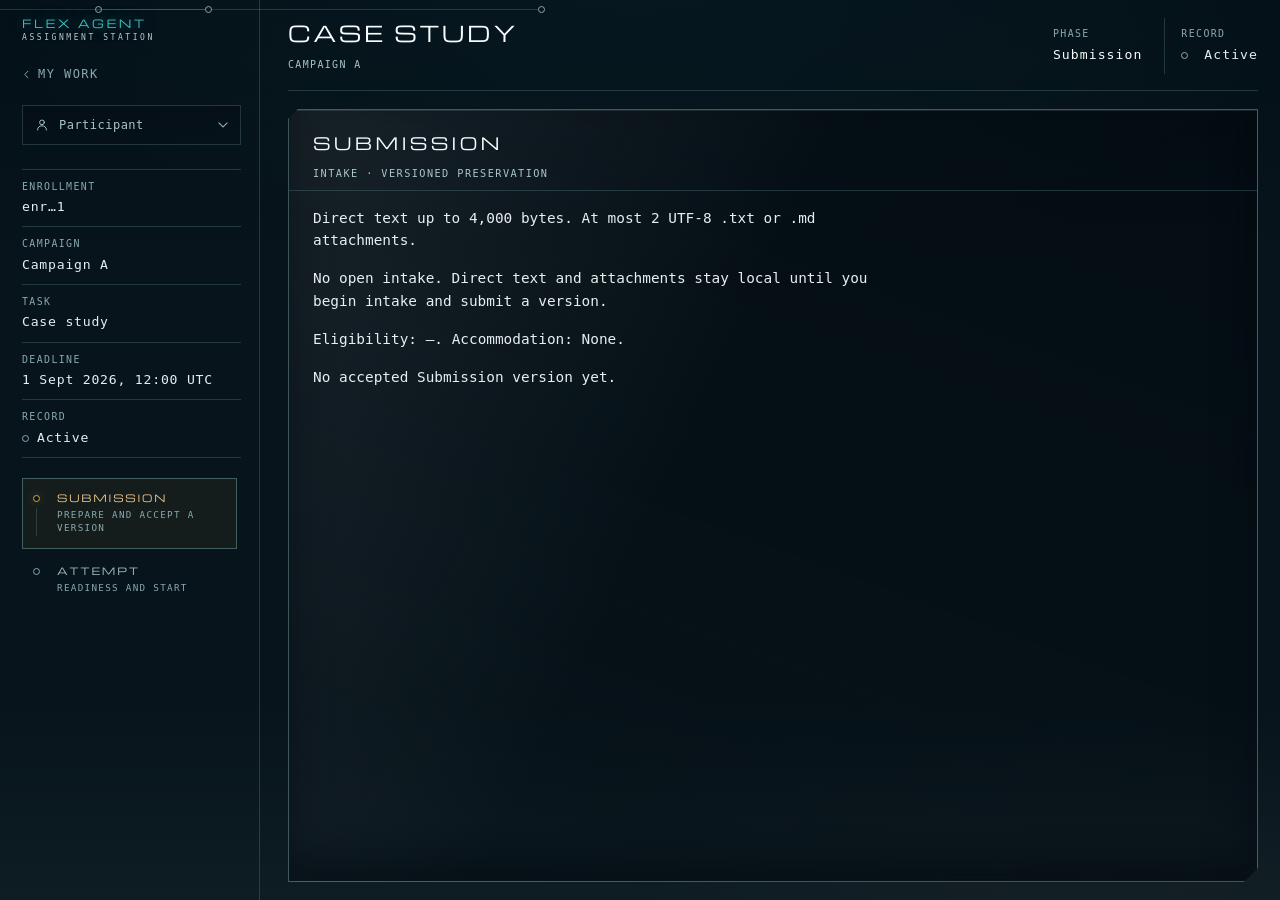
Test: ProductionMyWorkDetailPage › requires each notice to be checked before Start Attempt is enabled
What coordinates should you click on to do the following:
click the button with aria-label "Attempt —"
I would click on:
 (130, 579)
Its box is x1=22 y1=551 x2=237 y2=608.
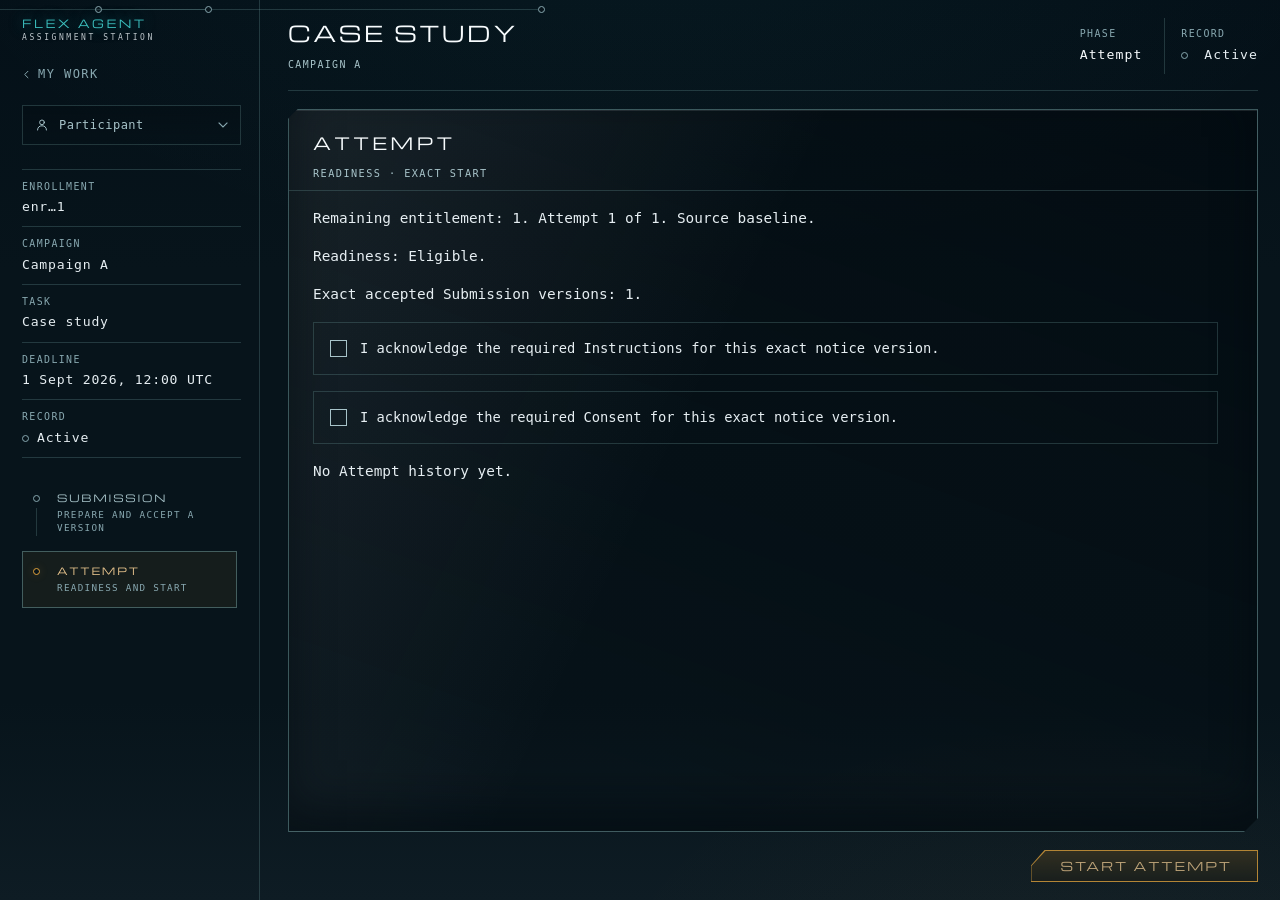
Expected: the text "Remaining entitlement: 1. Attempt 1 of 1. Source baseline." is shown, x1=313 y1=207 x2=902 y2=229
Expected: the button "Start Attempt" is disabled, x1=1030 y1=850 x2=1258 y2=882
What coordinates should you click on to do the following:
click the checkbox labelled "required Instructions"
I would click on:
 (766, 348)
Its box is x1=313 y1=322 x2=1218 y2=375.
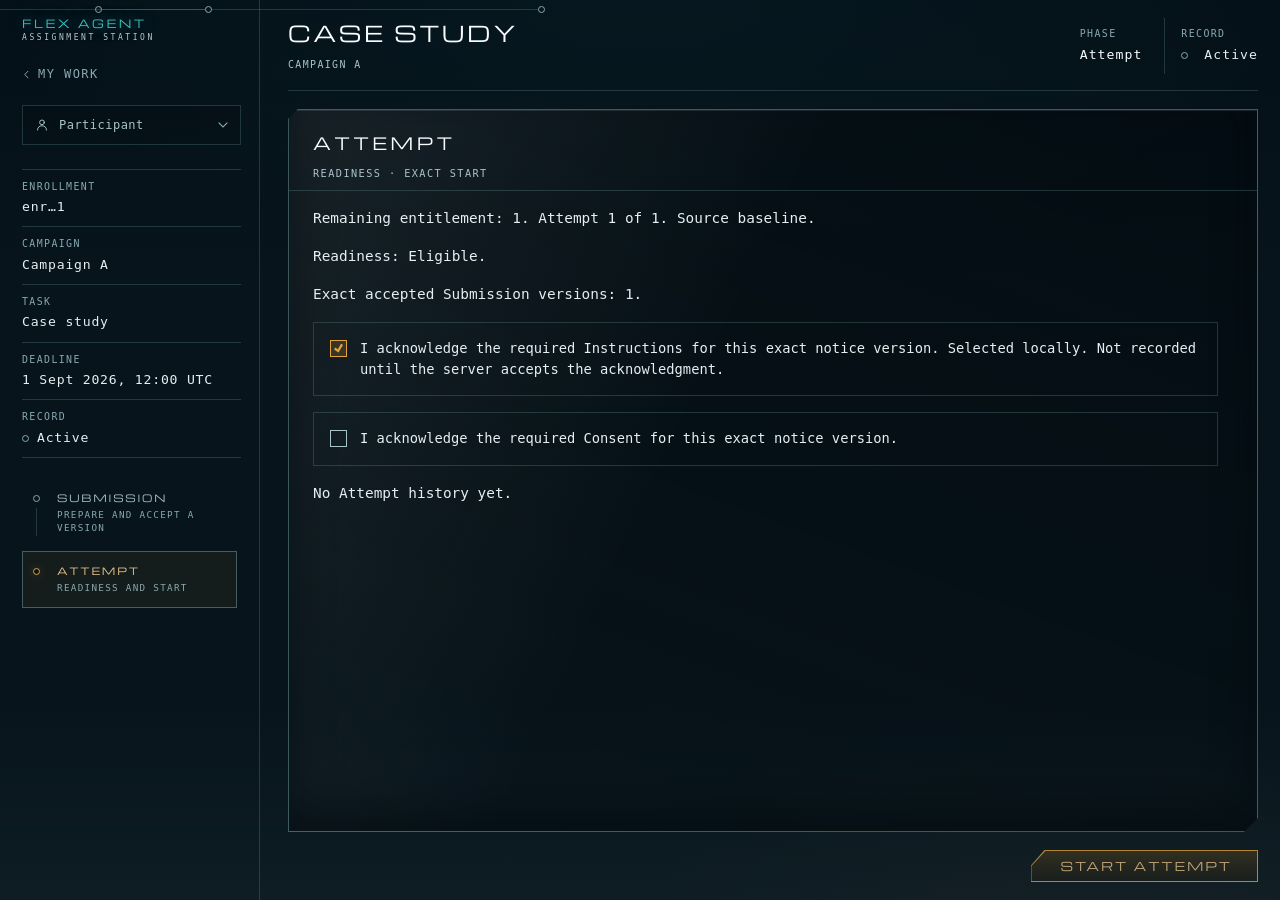
Expected: the button "Start Attempt" is disabled, x1=1030 y1=850 x2=1258 y2=882
What coordinates should you click on to do the following:
click the checkbox labelled "required Consent"
I would click on:
 (766, 439)
Its box is x1=313 y1=412 x2=1218 y2=466.
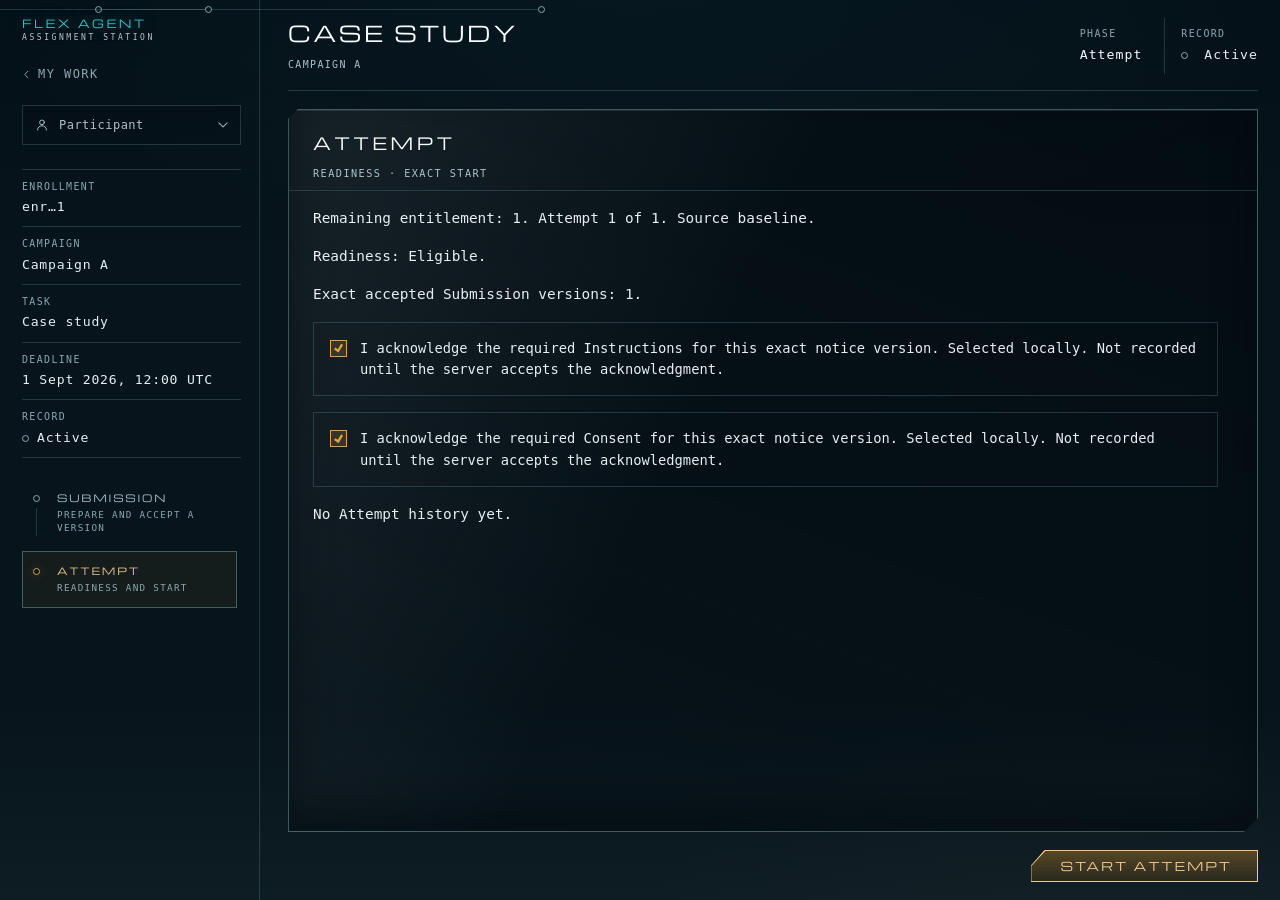
Expected: the button "Start Attempt" is enabled, x1=1030 y1=850 x2=1258 y2=882
